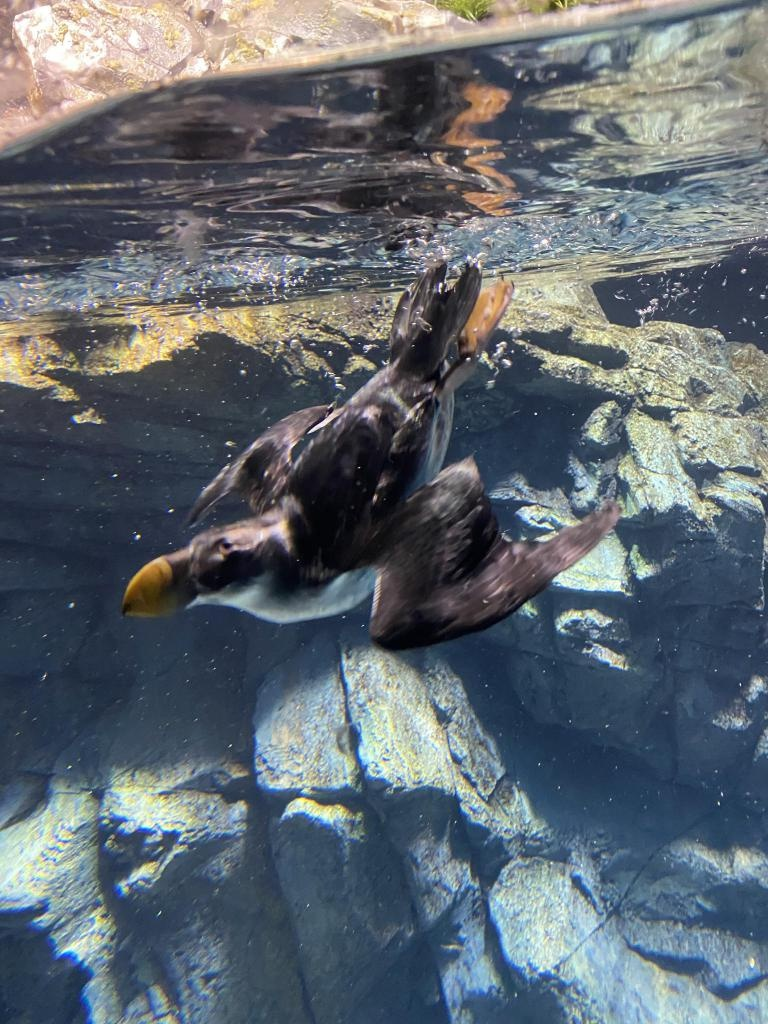puffin: (117, 240, 621, 648)
